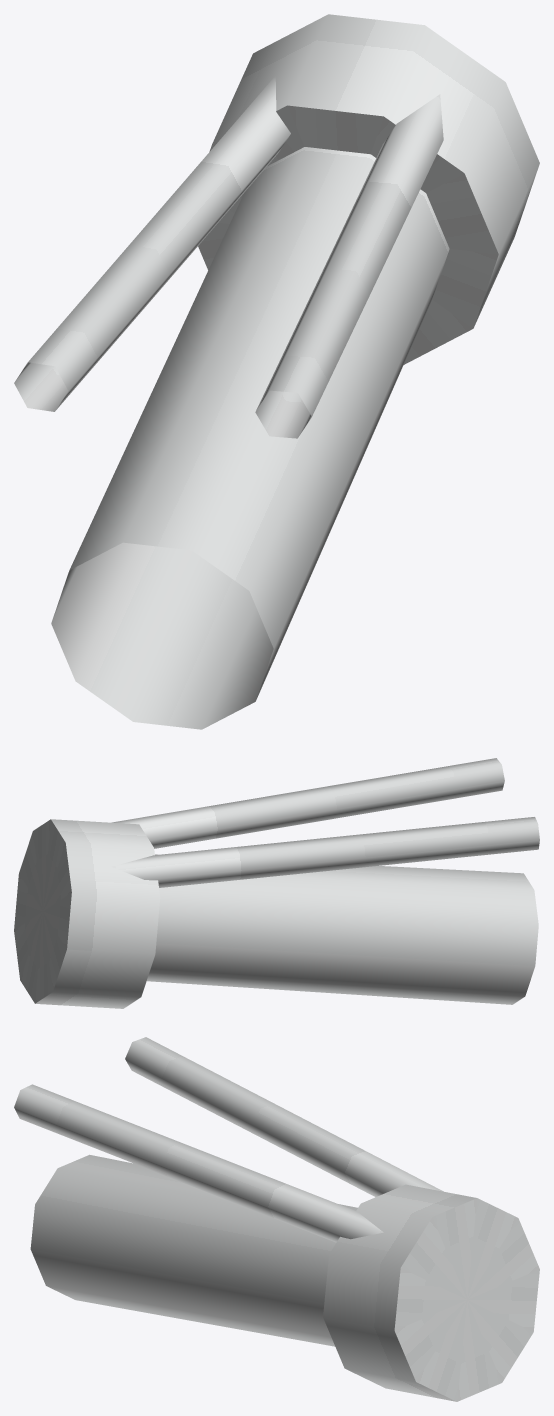
File: nycsignalarm_diagonal6_c11.obj
3 renders of one model, top to bottom at view 1: azimuth 30°, elevation 25°; view 2: azimuth 150°, elevation 25°; view 3: azimuth 270°, elevation 25°, orthographic. The views are drawn at different scales.
Visible parts, largest first — view 1: nycsignalarm_diagonal6_c11; view 2: nycsignalarm_diagonal6_c11; view 3: nycsignalarm_diagonal6_c11.
Part boxes in pixels (box(x1,y1,x2,y2)): nycsignalarm_diagonal6_c11: box(14, 14, 539, 729); nycsignalarm_diagonal6_c11: box(14, 758, 539, 1008); nycsignalarm_diagonal6_c11: box(14, 1037, 539, 1401).
Bounding box in the file's own units: 0.8949 × 0.4495 × 0.8949.
